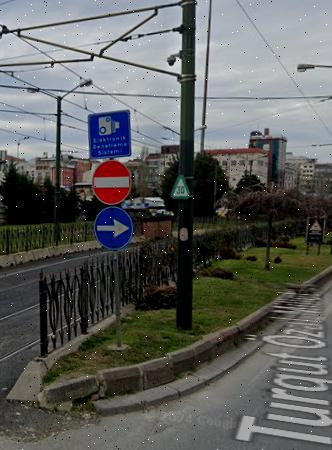turnright: (93, 205, 137, 250)
